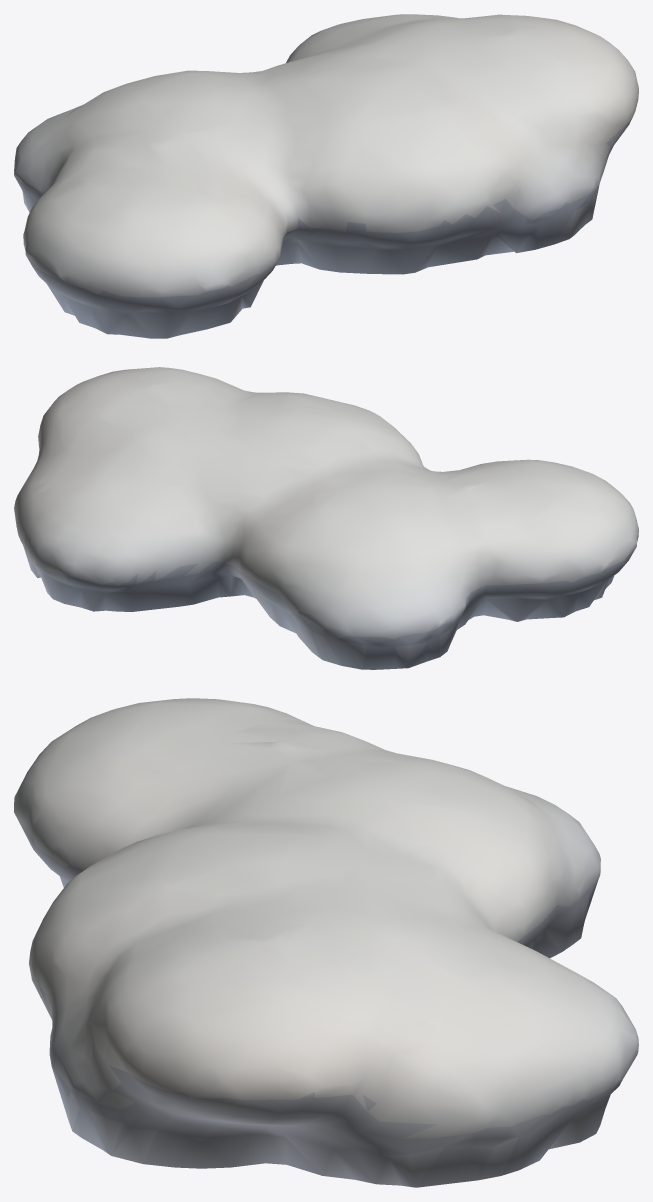
The model's file is CloudB.glb.
3 views of the same model, one above another, from view 1: azimuth 30°, elevation 25°; view 2: azimuth 150°, elevation 25°; view 3: azimuth 270°, elevation 25° (orthographic). The views are drawn at different scales.
Visible parts, largest first — view 1: Cloud.001; view 2: Cloud.001; view 3: Cloud.001.
Part boxes in pixels (x1,y1,x2,y2): Cloud.001: (14, 14, 638, 338); Cloud.001: (14, 367, 638, 669); Cloud.001: (14, 698, 638, 1187).
Bounding box in the file's own units: 118 × 29.48 × 77.42.
